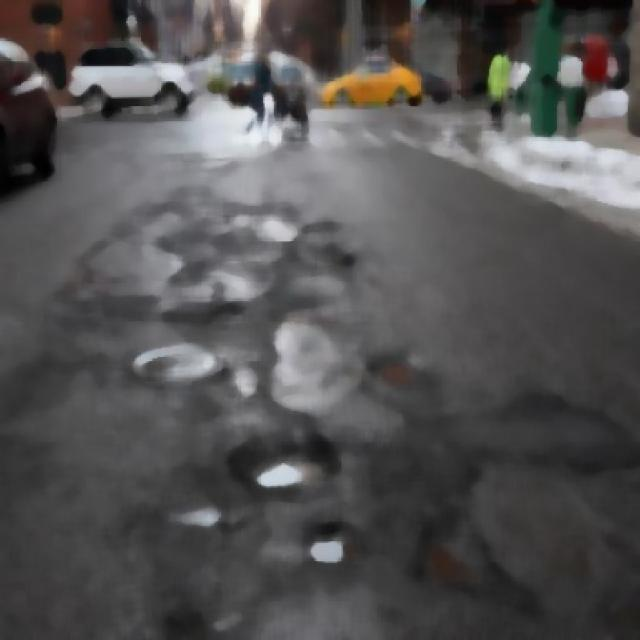Pothole: (145, 196, 357, 327), (418, 504, 488, 594), (244, 434, 330, 492), (301, 521, 357, 565), (367, 359, 439, 390)
